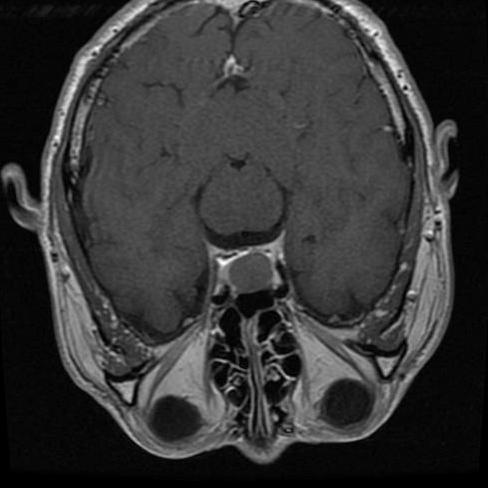Tumour-Pituitary: (202, 230, 297, 298)
